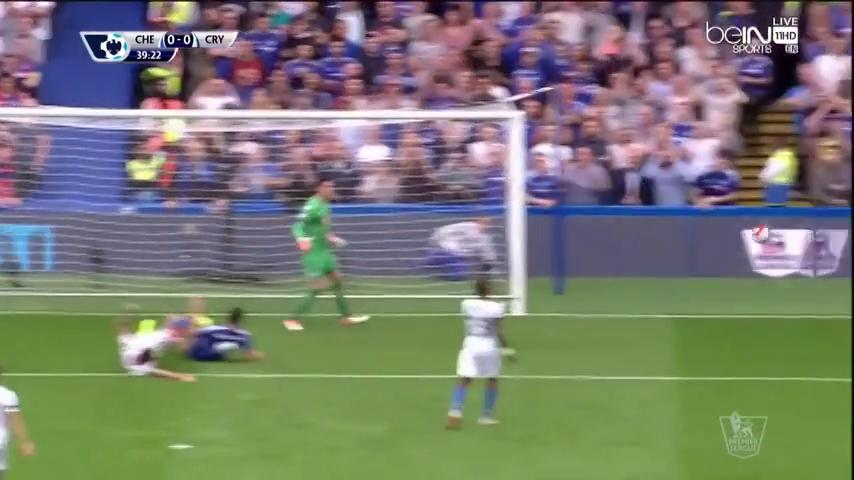football: (750, 222, 768, 243)
